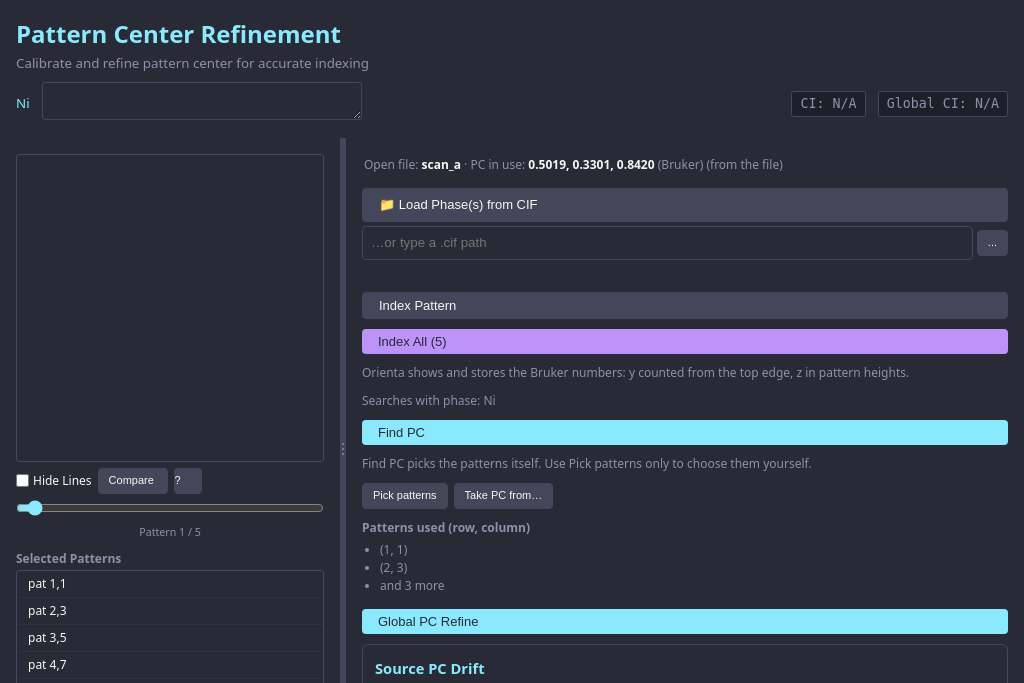
it: Save as calibration (screen 5) › a result at the edge has Save in Details with the sentence, and again after "Keep this PC anyway"
The width and height of the screenshot is (1024, 683).
Click the button "Find PC" at {"x": 401, "y": 432}, box [362,420,1008,445]
(page scrolled)
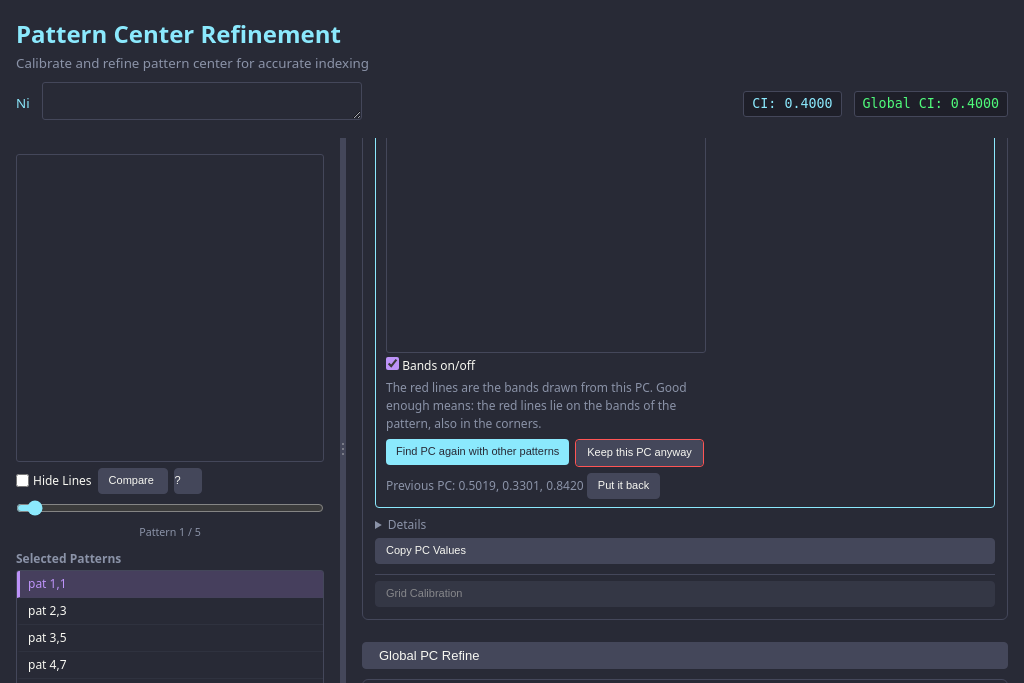
Click the button "Keep this PC anyway" at {"x": 640, "y": 453}, box [576,440,703,466]
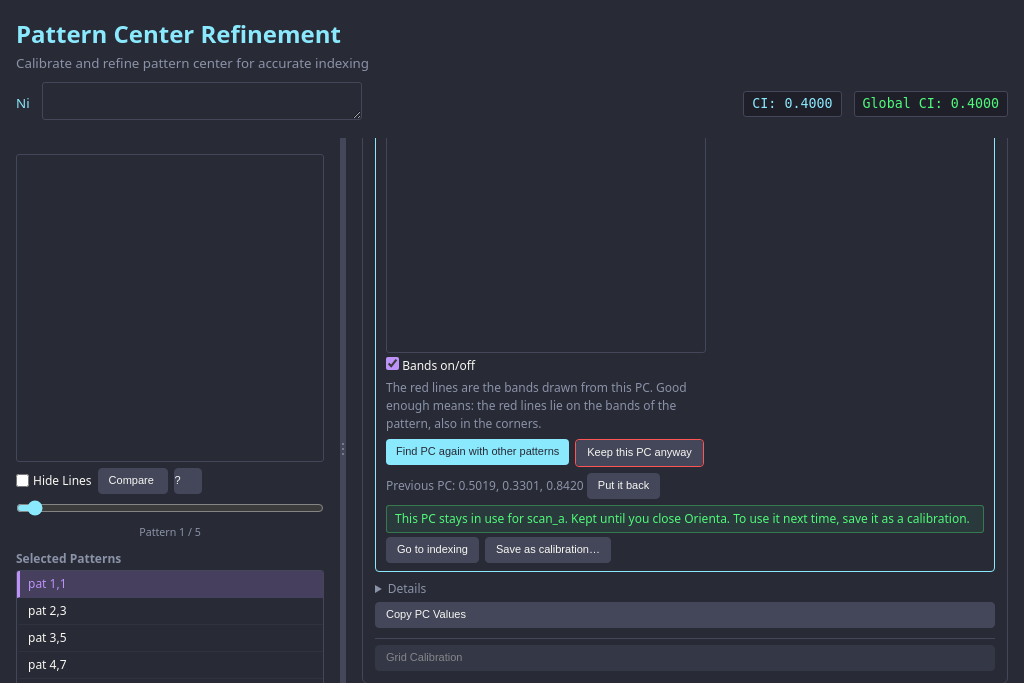
Click the button "Save as calibration…" at {"x": 548, "y": 550}, box [485,537,611,563]
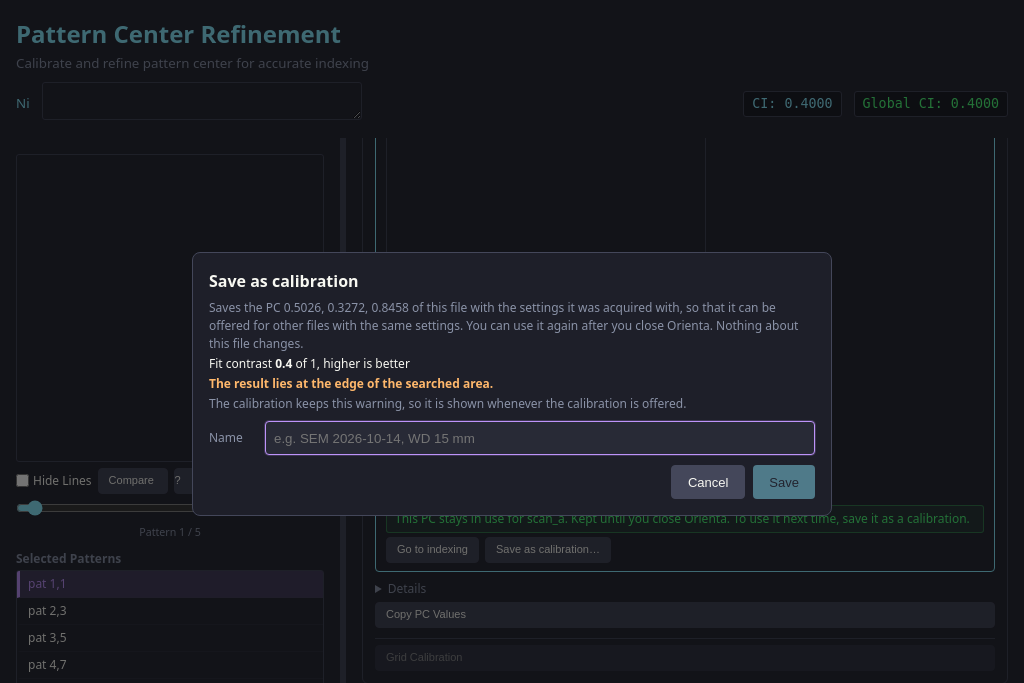
Result: the element with test id "save-warning" is shown at [209,375,493,392]
